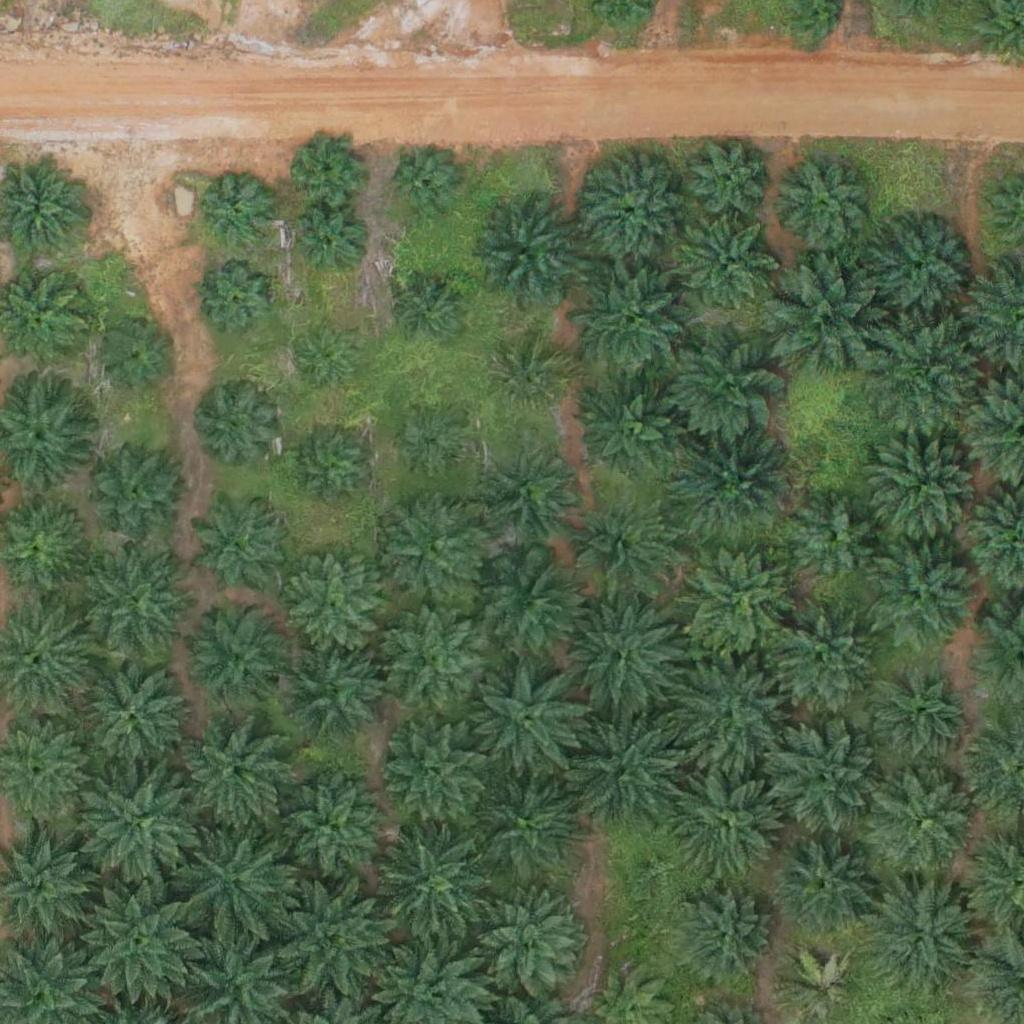Kelapa_Sawit: (462, 192, 587, 318), (464, 658, 589, 784), (569, 253, 694, 379), (664, 323, 789, 449), (761, 256, 886, 382), (864, 315, 989, 441), (462, 880, 587, 1006), (366, 820, 491, 946), (264, 763, 389, 889), (269, 873, 394, 999), (176, 713, 301, 839), (173, 821, 298, 947), (79, 756, 204, 882), (77, 876, 202, 1002), (81, 543, 194, 657), (870, 433, 983, 547), (77, 656, 190, 769), (472, 549, 585, 662), (568, 603, 681, 716), (868, 538, 981, 651), (861, 656, 974, 769), (670, 763, 783, 876), (666, 876, 779, 989), (564, 715, 677, 828), (378, 489, 490, 602), (380, 604, 492, 717), (578, 375, 690, 488), (565, 491, 677, 604), (677, 428, 789, 541), (682, 547, 794, 660), (675, 657, 787, 770), (763, 602, 875, 715), (867, 767, 979, 880), (866, 881, 978, 994), (767, 718, 879, 831), (469, 768, 581, 881), (378, 720, 490, 833), (579, 156, 679, 257), (88, 446, 188, 546), (190, 495, 290, 595), (192, 610, 292, 710), (283, 556, 383, 656), (282, 644, 382, 744), (678, 213, 778, 313), (868, 219, 968, 319), (195, 381, 283, 469), (290, 424, 378, 512), (792, 494, 880, 582), (782, 846, 870, 934), (487, 447, 574, 535), (684, 134, 771, 222), (778, 160, 865, 248), (104, 322, 179, 398), (493, 340, 568, 415), (201, 173, 276, 248), (201, 265, 276, 340), (285, 131, 360, 206), (289, 209, 364, 284), (387, 146, 462, 221), (390, 276, 465, 351), (396, 406, 471, 481), (295, 328, 357, 391)
